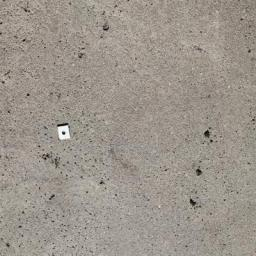FOD: (55, 121, 74, 144)
